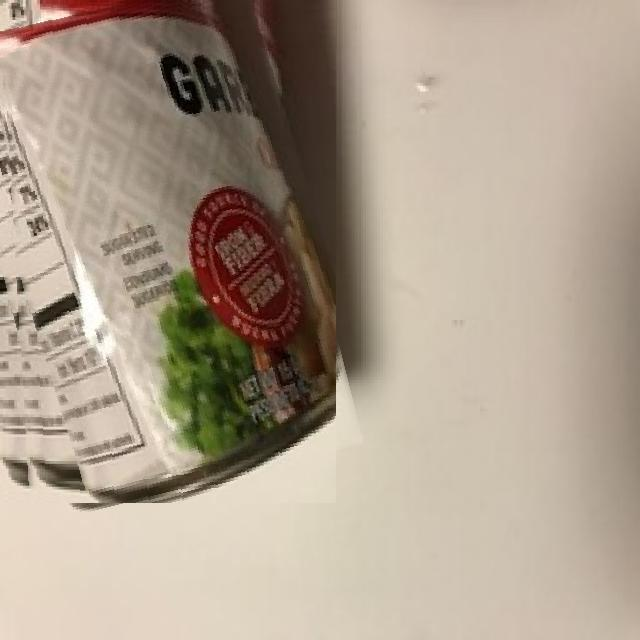recyclable: (0, 0, 336, 503)
